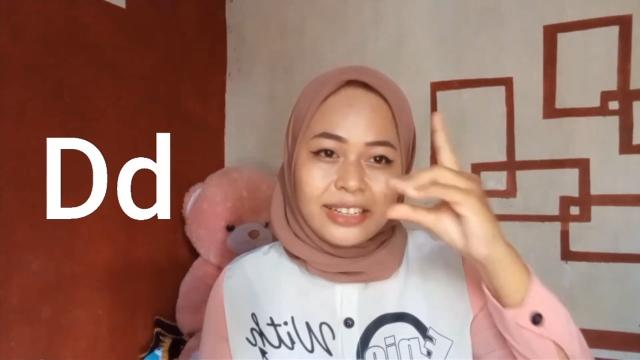D: (390, 109, 496, 264)
